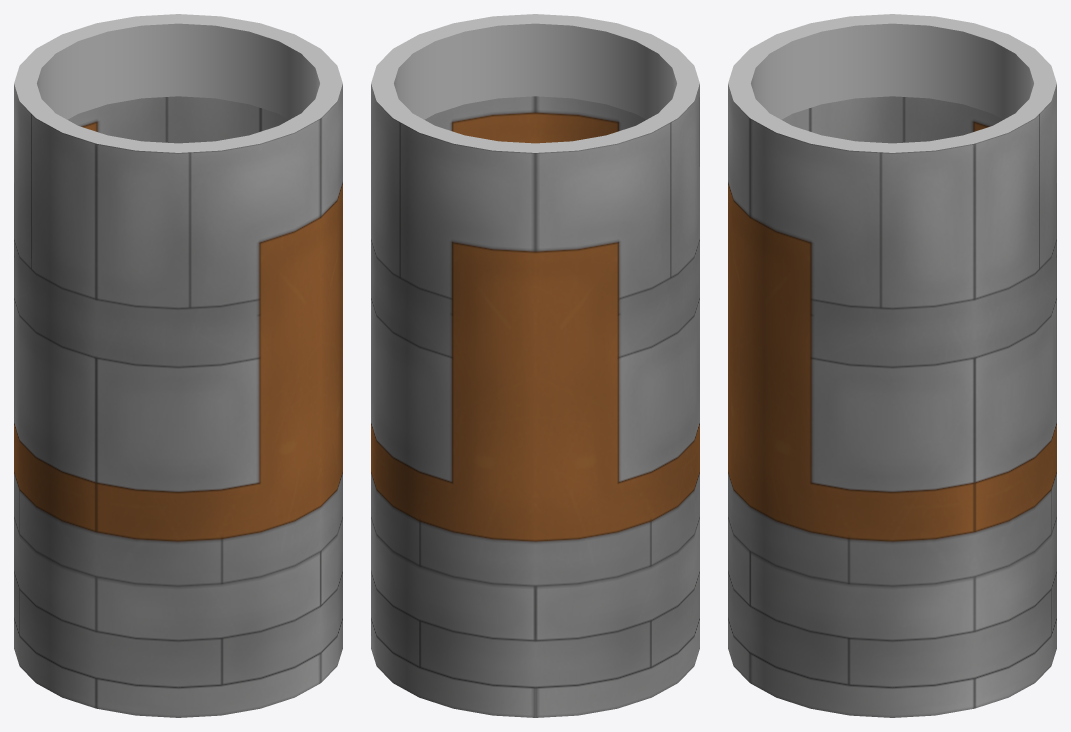
File: Titan4_SecondStage1.dae
3 views of the same model, side by side, from view 1: azimuth 30°, elevation 25°; view 2: azimuth 150°, elevation 25°; view 3: azimuth 270°, elevation 25° (orthographic).
Parts seen in each view (by area): view 1: Tank, Rims; view 2: Tank, Rims; view 3: Tank, Rims.
Boxes of the visible parts, x1,y1,x2,y2 form: Tank: [14, 84, 342, 717]; Rims: [14, 14, 342, 152]; Tank: [371, 84, 699, 717]; Rims: [371, 14, 699, 152]; Tank: [728, 84, 1056, 717]; Rims: [728, 14, 1056, 152].
Bounding box in the file's own units: 1.88 × 3.55 × 1.88.
